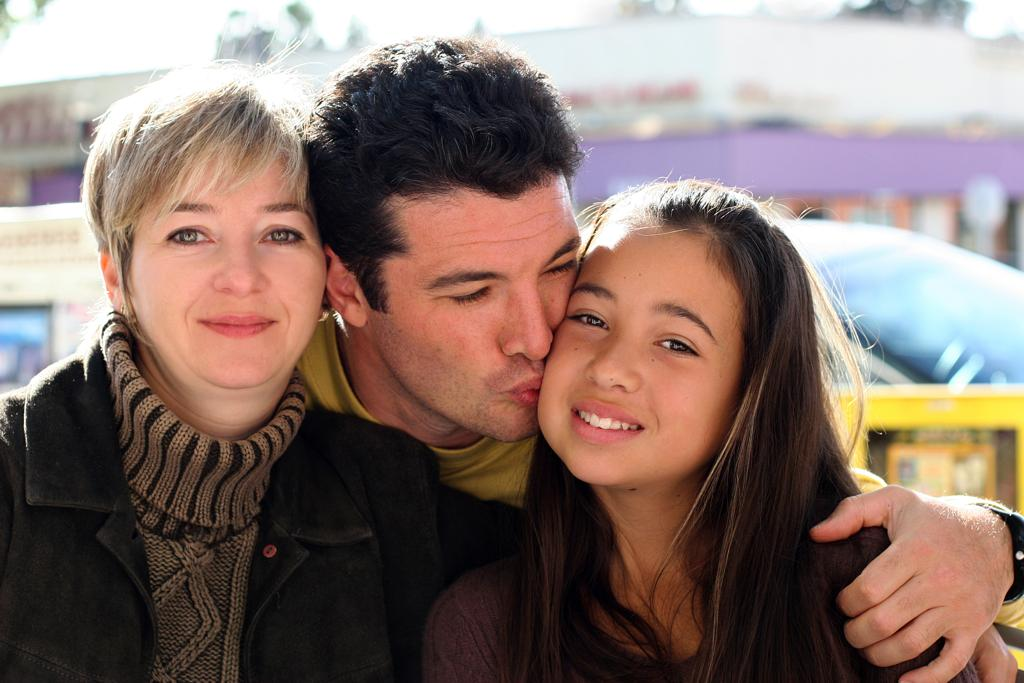face: (542, 210, 742, 484), (128, 136, 324, 384), (398, 178, 578, 438)
